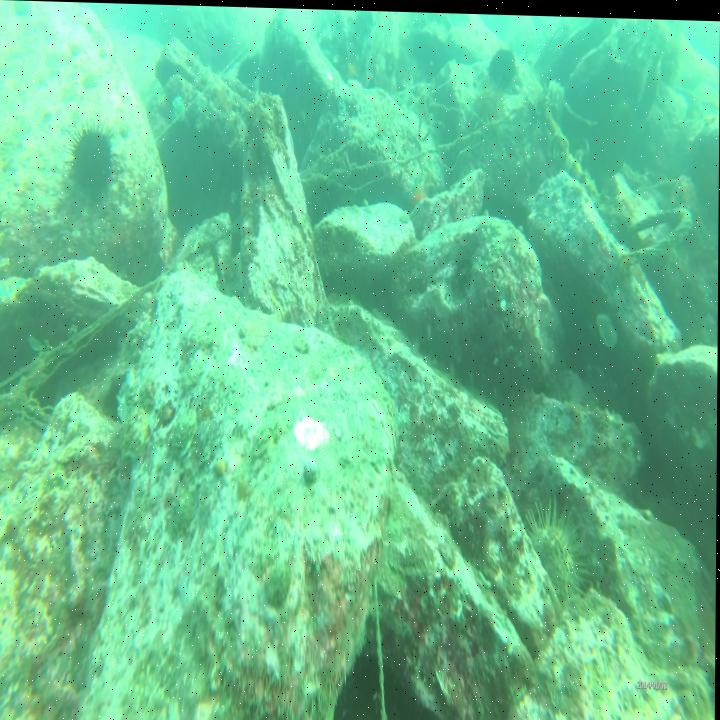echinus: (525, 495, 587, 605), (67, 122, 117, 200), (489, 43, 520, 89), (236, 52, 262, 85)
starfish: (404, 174, 431, 218)
